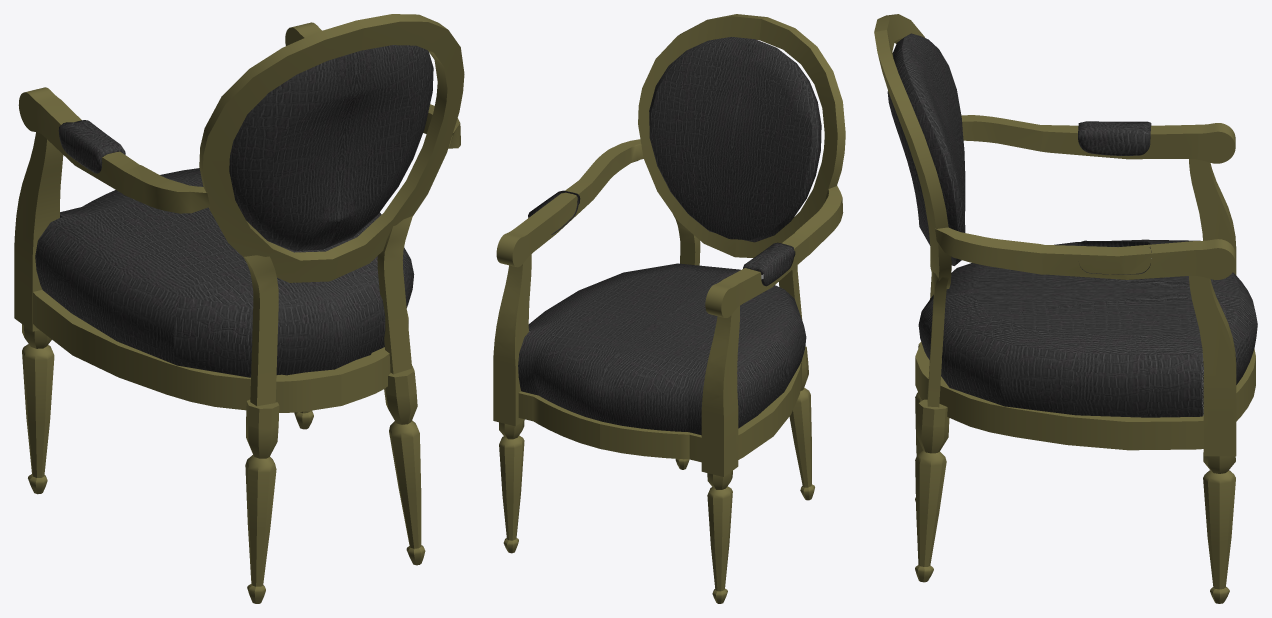
Rendered from chairDoor.fbx.
3 views of the same model, side by side, from view 1: azimuth 30°, elevation 25°; view 2: azimuth 150°, elevation 25°; view 3: azimuth 270°, elevation 25° (orthographic). The views are drawn at different scales.
Visible parts, largest first — view 1: ID27; view 2: ID27; view 3: ID27.
Boxes of the visible parts, <box> form: ID27: <box>14,14,464,603</box>; ID27: <box>493,14,845,603</box>; ID27: <box>874,14,1257,603</box>.
Size of the model in its own units: 55.86 by 102 by 68.91.
Materials: 4 (1 with a texture image).
